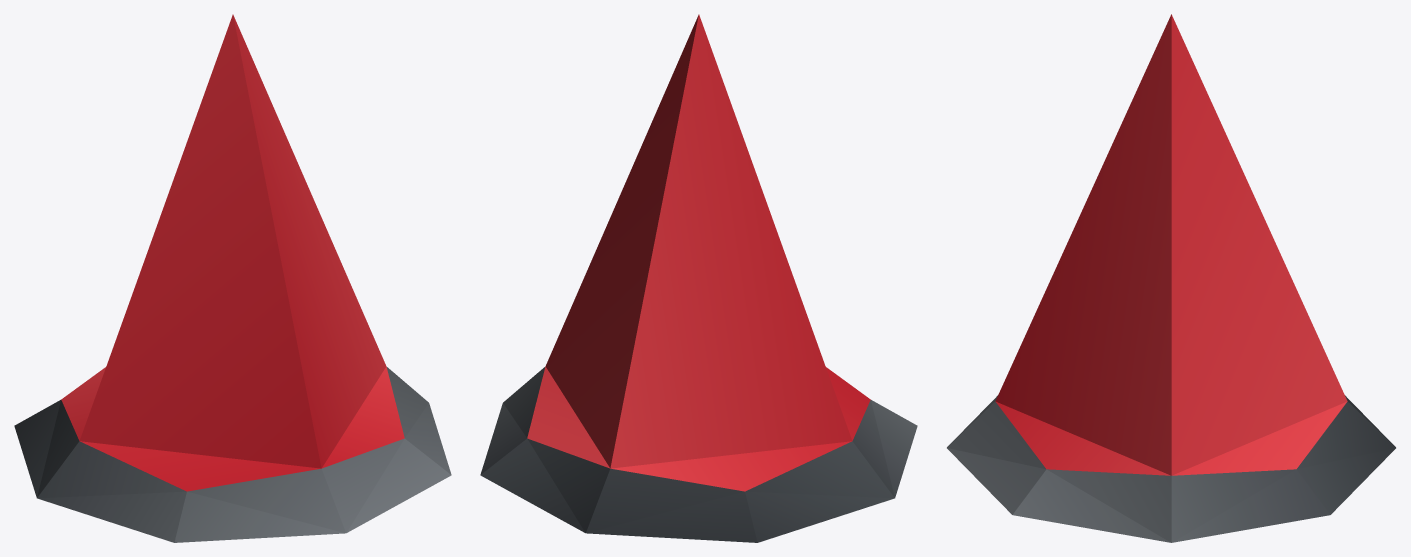
The model's file is OBS_Spike_Trap.fbx.
3 renders of one model, left to right at view 1: azimuth 30°, elevation 25°; view 2: azimuth 150°, elevation 25°; view 3: azimuth 270°, elevation 25°, orthographic.
Parts seen in each view (by area): view 1: OBS_Spike_Trap; view 2: OBS_Spike_Trap; view 3: OBS_Spike_Trap.
Boxes of the visible parts, <box> form: OBS_Spike_Trap: <box>14,14,451,542</box>; OBS_Spike_Trap: <box>480,14,917,542</box>; OBS_Spike_Trap: <box>947,14,1395,542</box>.
Size of the model in its own units: 1.75 by 1.86 by 1.75.
